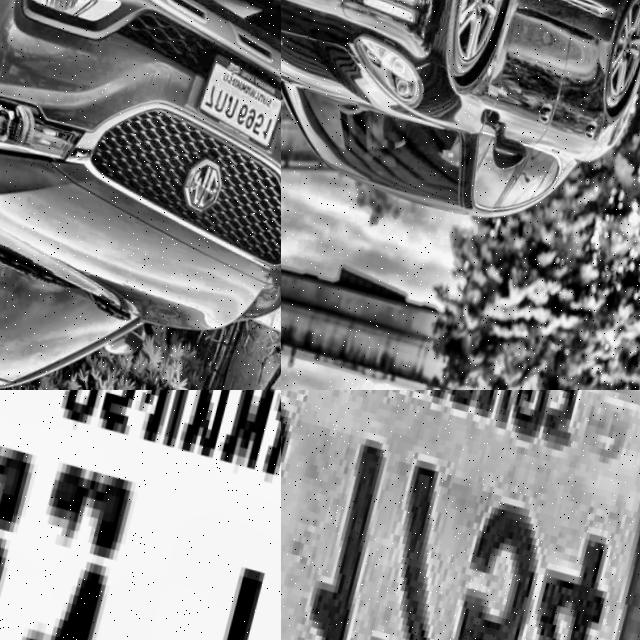license-plate: (281, 390, 640, 640), (0, 390, 281, 640), (188, 37, 281, 147)
